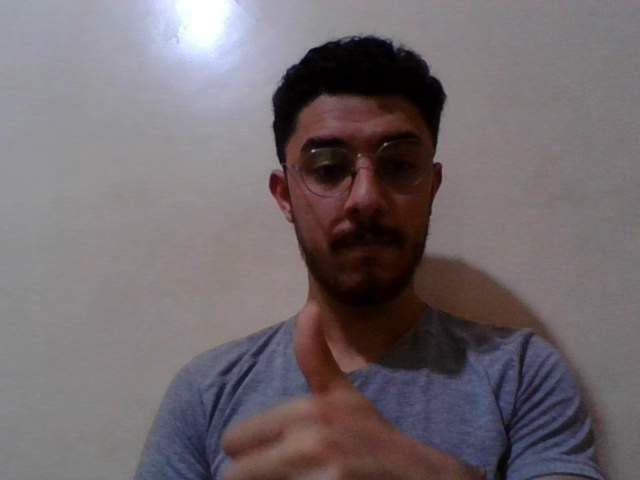Yes: (217, 297, 453, 480)
